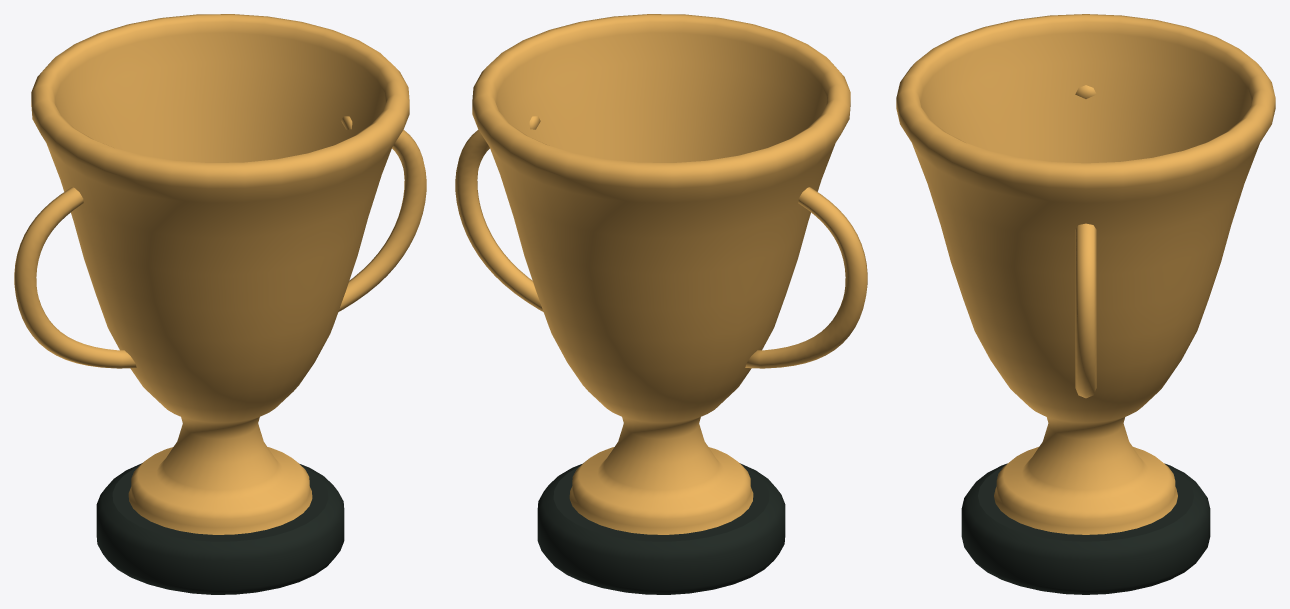
The model's file is coupe.glb.
3 renders of one model, left to right at view 1: azimuth 30°, elevation 25°; view 2: azimuth 150°, elevation 25°; view 3: azimuth 270°, elevation 25°, orthographic.
Parts seen in each view (by area): view 1: Coupe; view 2: Coupe; view 3: Coupe.
Part boxes in pixels (x1,y1,x2,y2): Coupe: (14,14,426,594); Coupe: (455,14,867,594); Coupe: (896,14,1275,594).
Size of the model in its own units: 0.3552 by 0.38 by 0.284.
